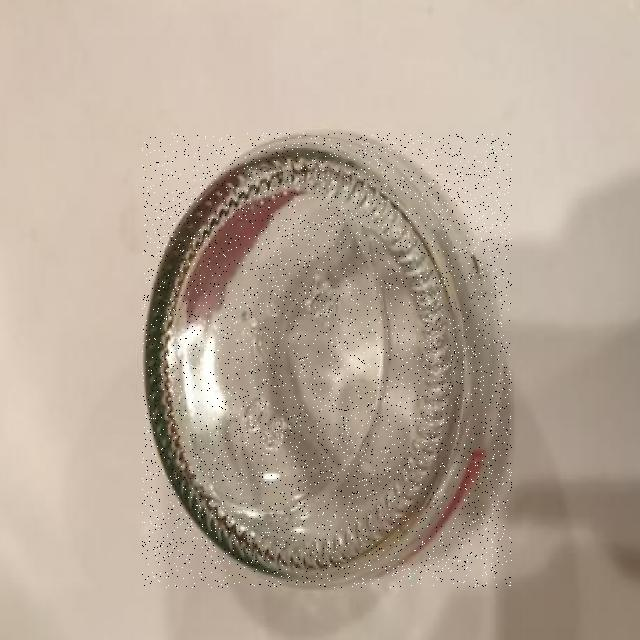glass: (142, 133, 512, 588)
